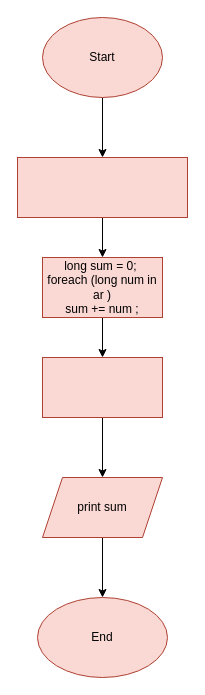
Image size: 205x695. Some labels were removed from this diagram. The shapes that lost their labels are listed below. From the top down, each one's centre as x and y in pixels, then its label:
At [102,187]: "Function aVeryBigSum(List<long> ar)".
At [102,387]: "return sum".
